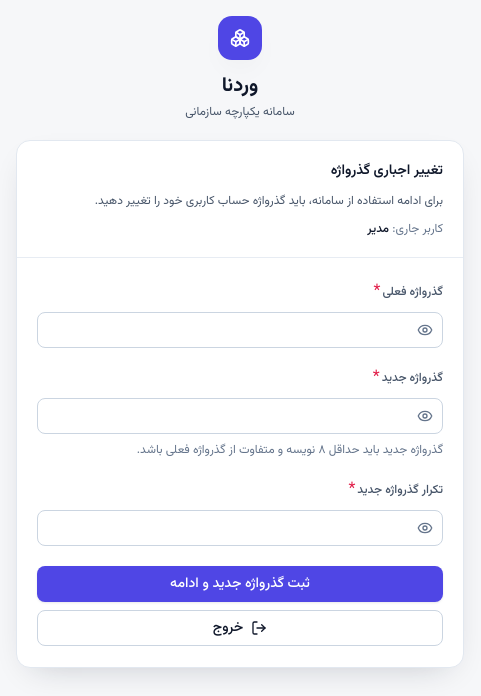
Test: Forced first-login password change flow › allows a restricted user to log out from the forced password change screen
The width and height of the screenshot is (481, 696).
Expected: the heading "تغییر اجباری گذرواژه" is shown, top-left (331, 160), bottom-right (443, 182)
Click the button "خروج" at [240, 628], box top-left (37, 610), bottom-right (443, 646)
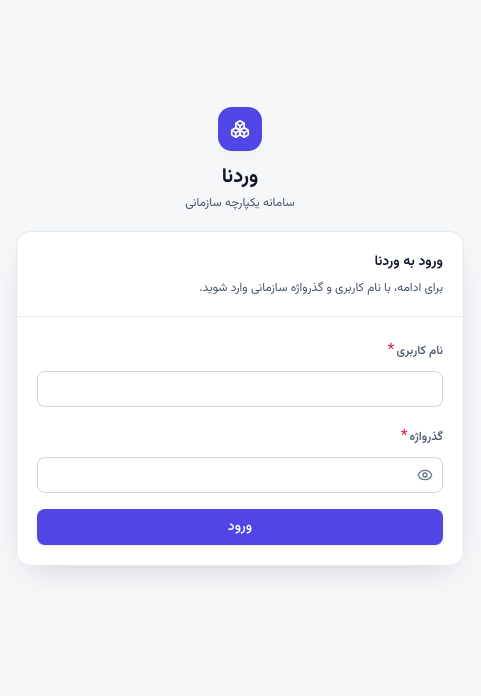
Expected: the heading "ورود به وردنا" is shown, top-left (374, 250), bottom-right (443, 272)
